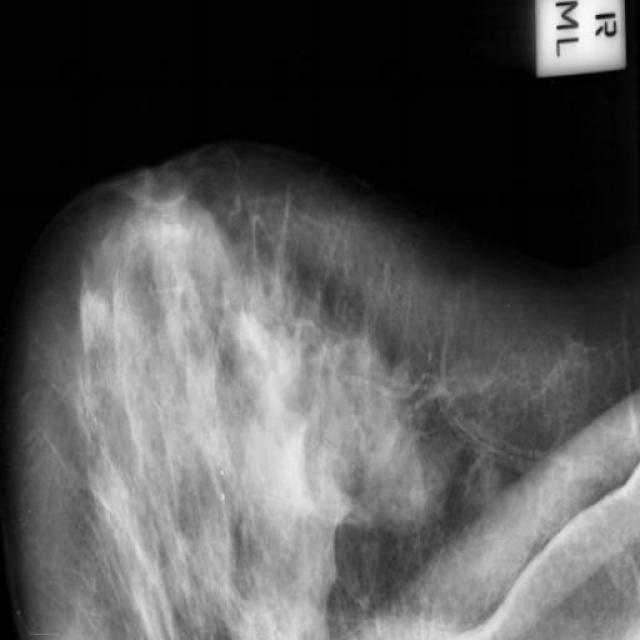cancer: (222, 288, 270, 367)
